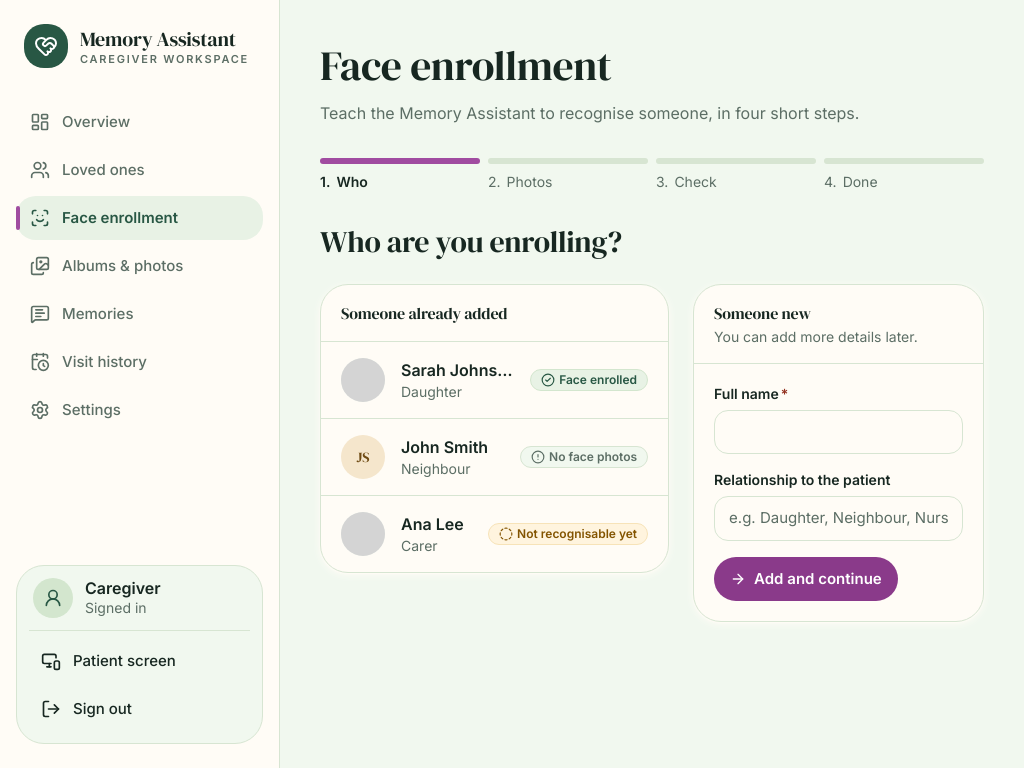
Test: face enrollment wizard › step 1 adds someone new and moves on to photos
Expected: the heading "Who are you enrolling?" is shown, [320, 221, 622, 262]
Click the button "Add and continue": (806, 579) [714, 557, 898, 601]
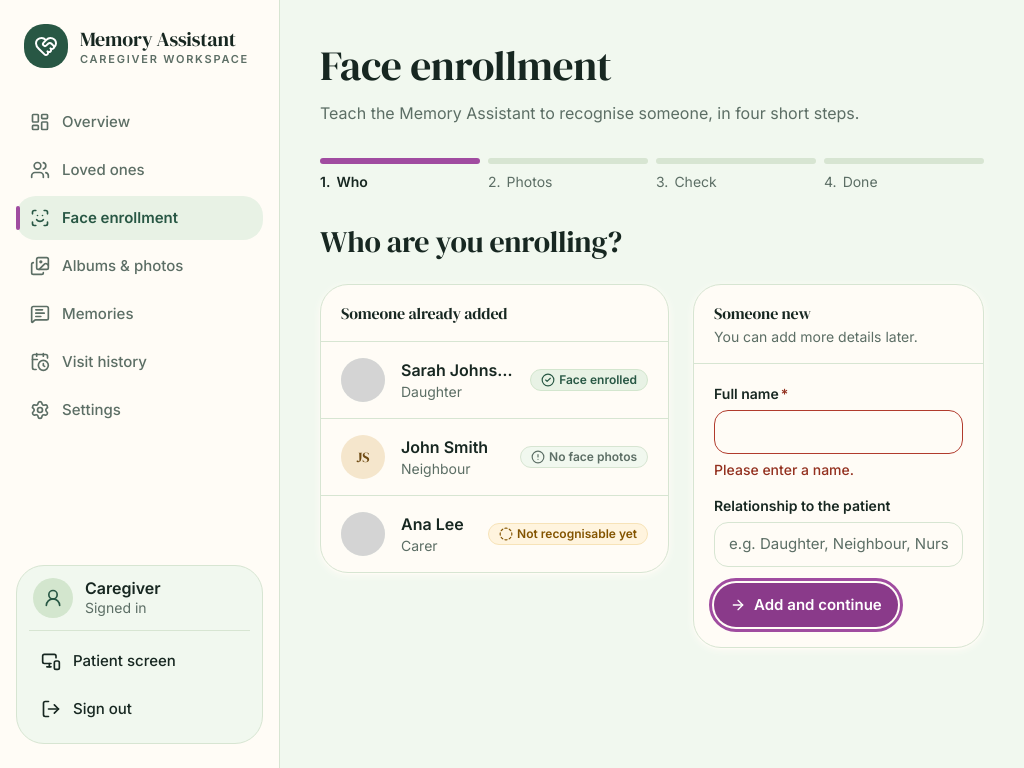
Result: the text "Please enter a name." is shown at [714, 462, 854, 478]
In the field labelled "Full name*": (839, 432) [714, 410, 963, 454], type "Grace Miller"
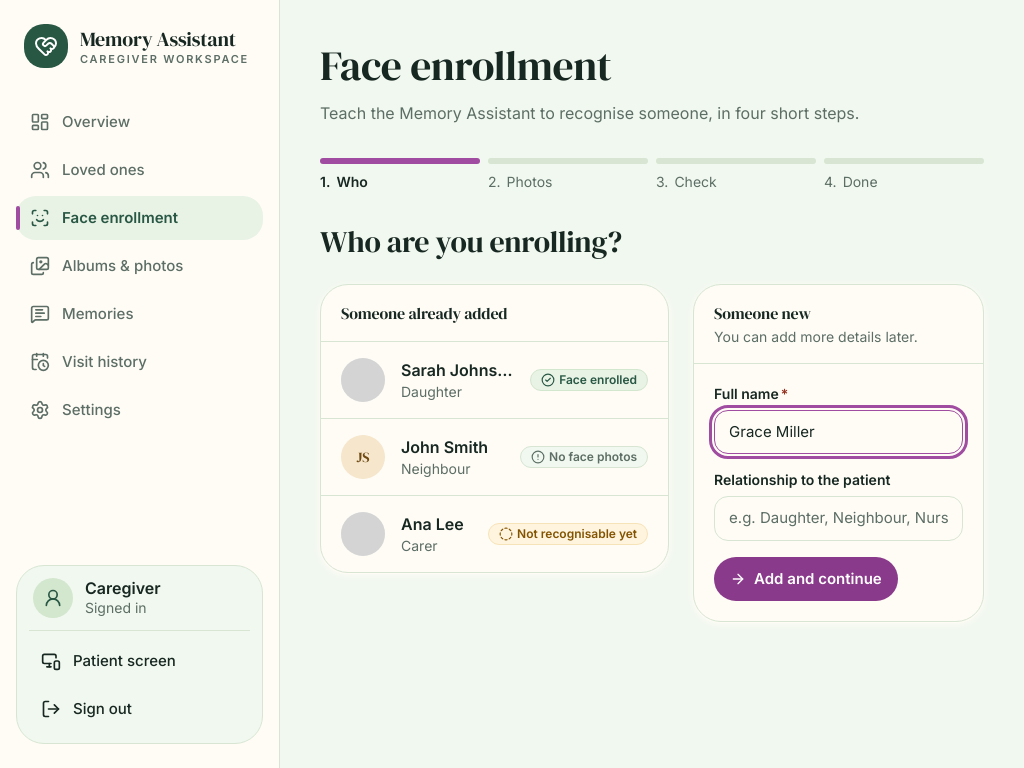
Click the button "Add and continue": (806, 579) [714, 557, 898, 601]
(page scrolled)
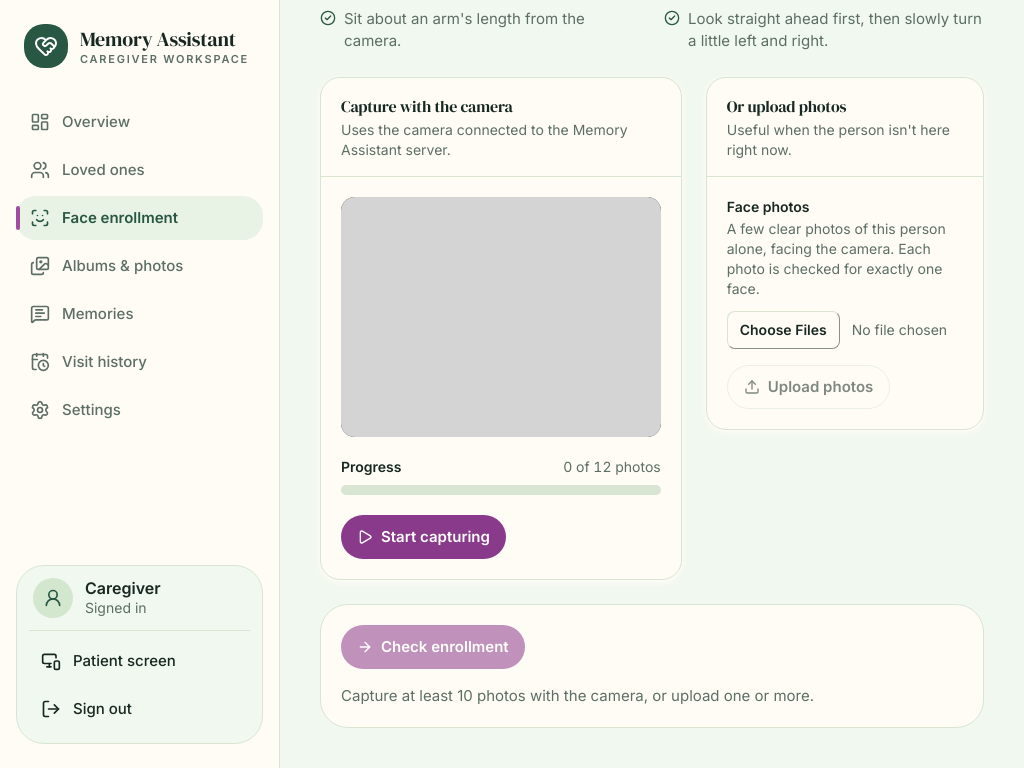
Result: the button "Check enrollment" is disabled at [341, 625, 525, 669]
